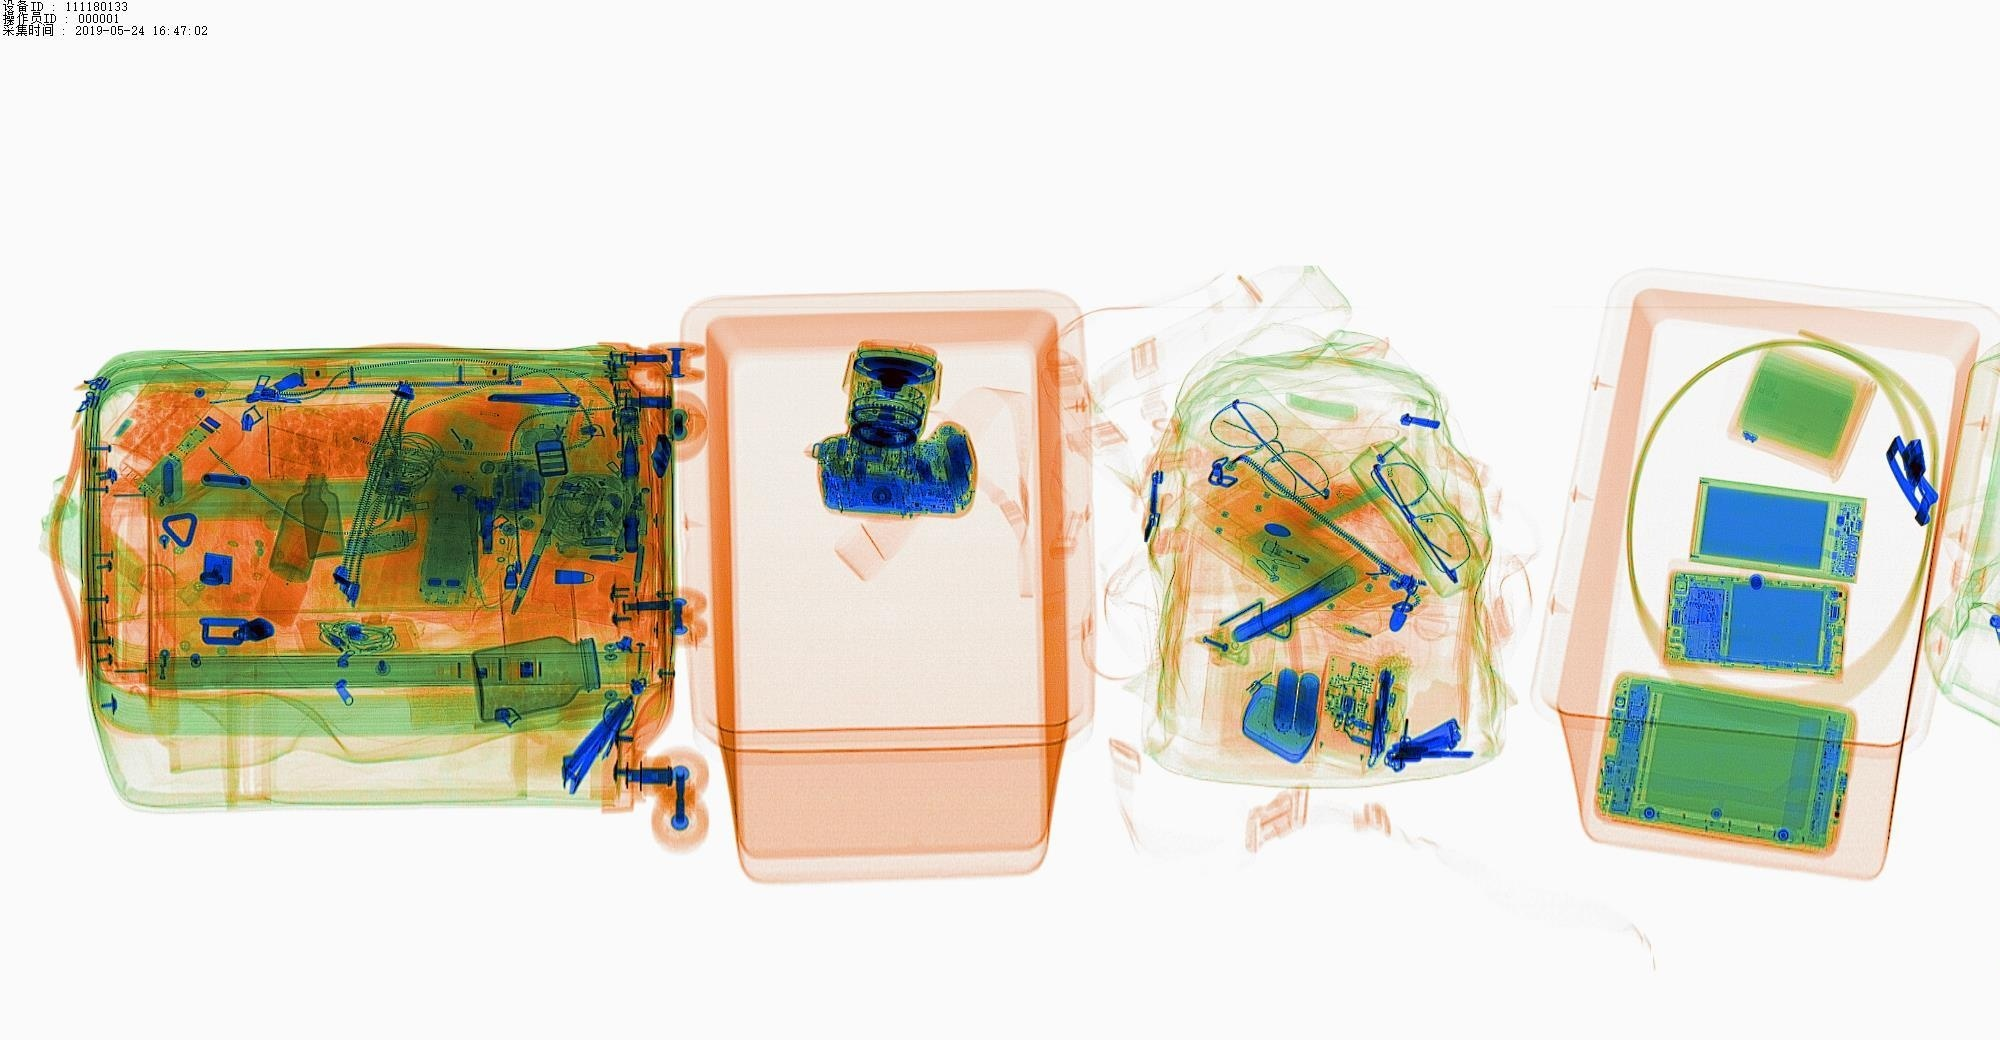NonmetallicFire: (1261, 529, 1357, 584)
